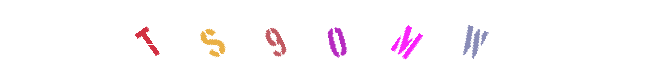0: (297, 0, 377, 80)
9: (290, 0, 370, 80)
M: (367, 0, 447, 80)
S: (176, 0, 256, 80)
T: (172, 0, 252, 80)
W: (403, 0, 483, 80)
